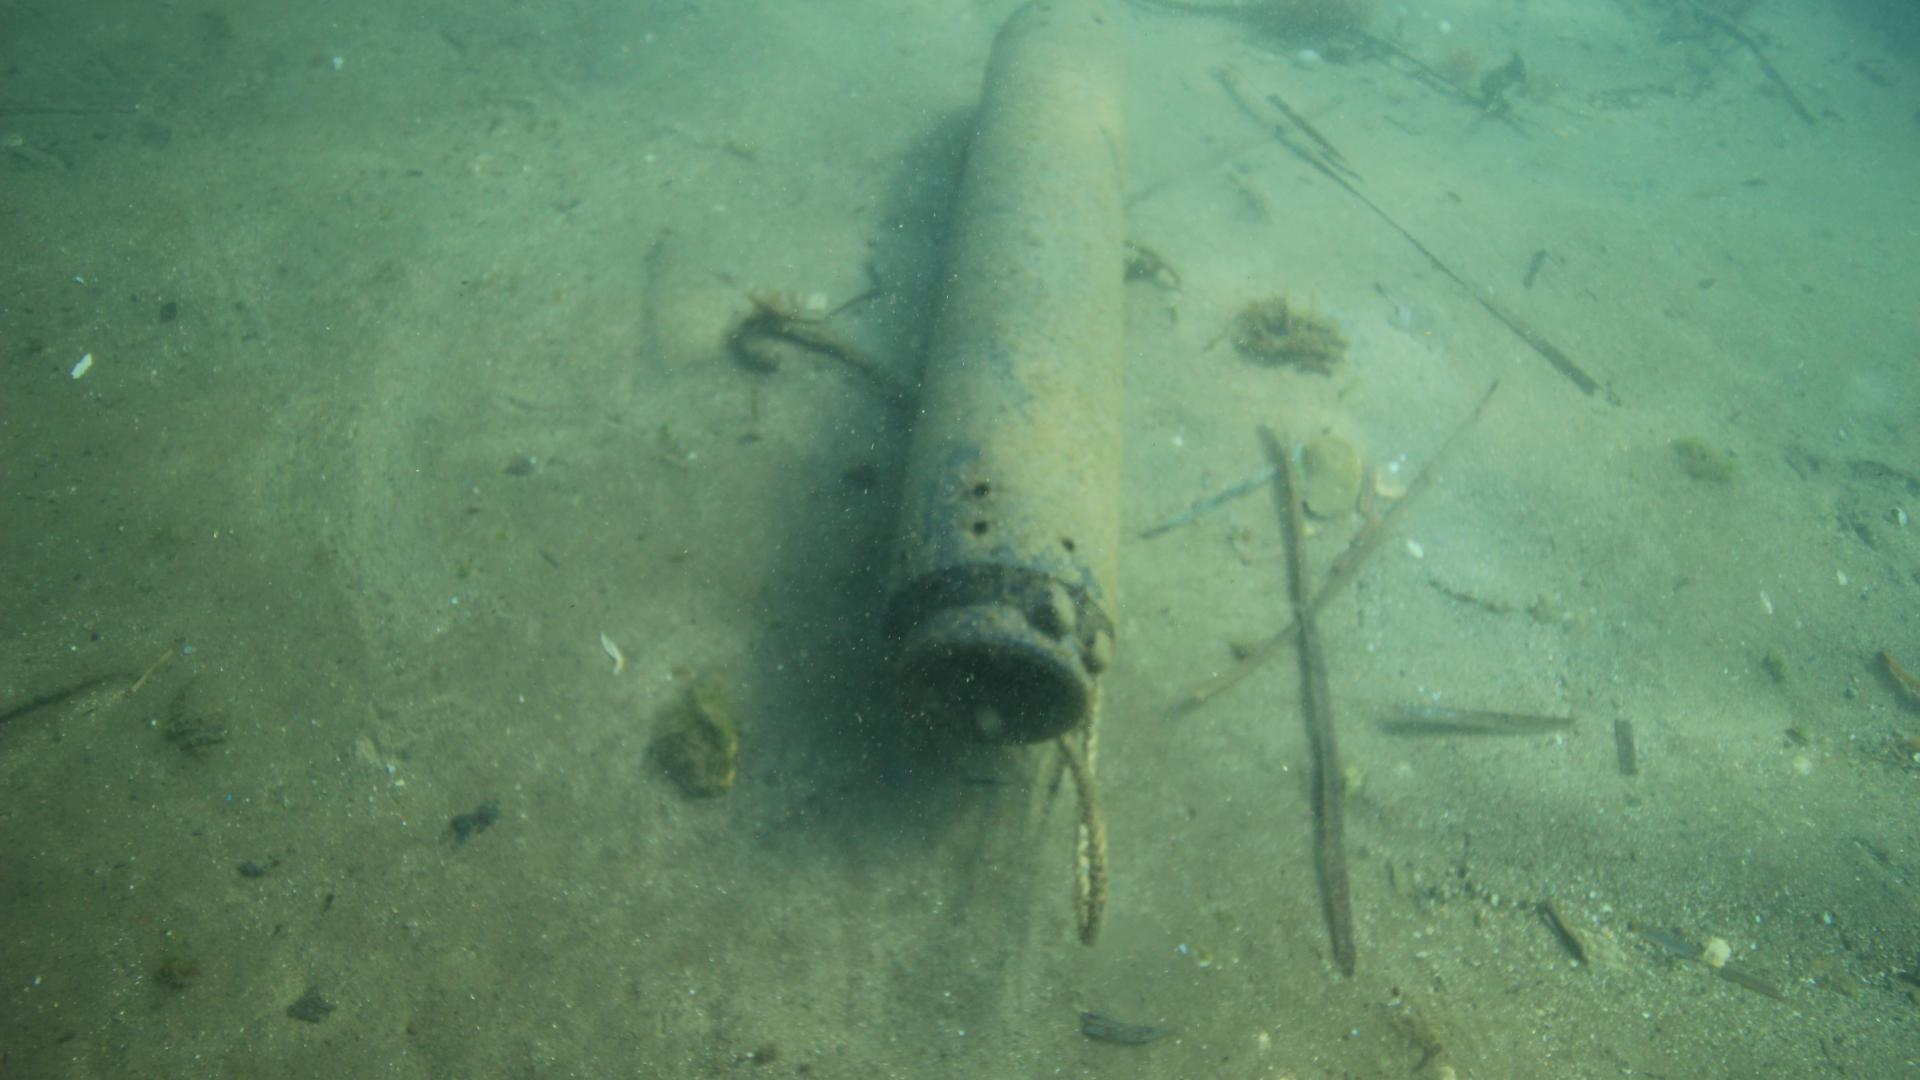eel fish trap: (880, 0, 1125, 745)
rope: (1056, 683, 1112, 948)
